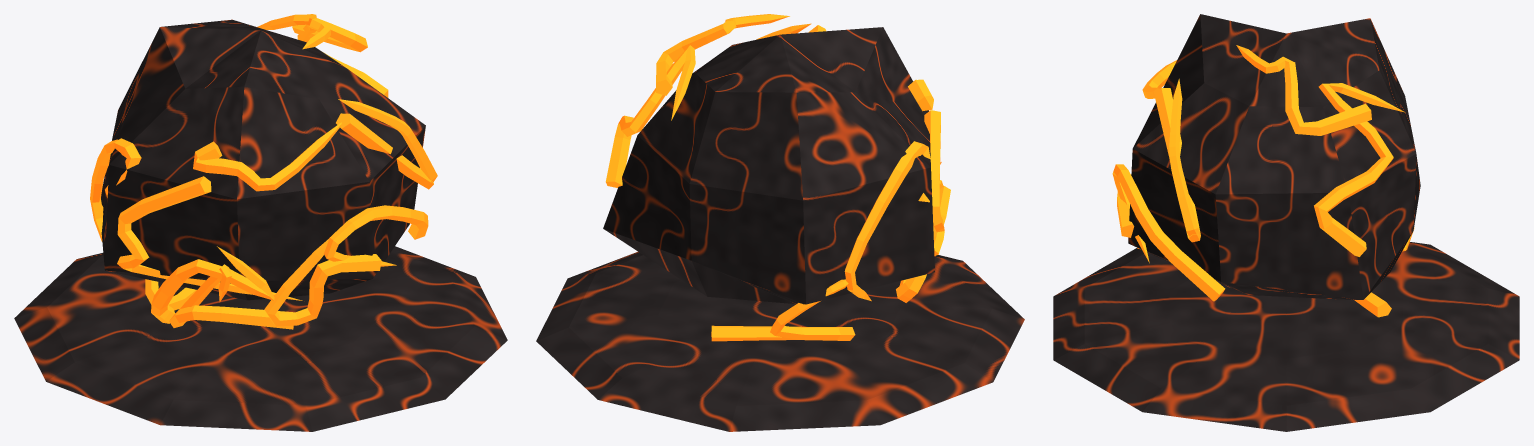
File: VolcanicBomb.glb
3 views of the same model, side by side, from view 1: azimuth 30°, elevation 25°; view 2: azimuth 150°, elevation 25°; view 3: azimuth 270°, elevation 25° (orthographic).
Parts seen in each view (by area): view 1: VolcanicBomb, VolcanicBomb_Glow; view 2: VolcanicBomb, VolcanicBomb_Glow; view 3: VolcanicBomb, VolcanicBomb_Glow.
Part boxes in pixels (x1,y1,x2,y2): VolcanicBomb: [14, 19, 507, 431]; VolcanicBomb_Glow: [90, 14, 437, 329]; VolcanicBomb: [536, 27, 1024, 431]; VolcanicBomb_Glow: [605, 14, 950, 341]; VolcanicBomb: [1053, 14, 1519, 431]; VolcanicBomb_Glow: [1112, 45, 1414, 317].
Size of the model in its own units: 3.6 by 2.6 by 3.42.
Materials: 2 (1 with a texture image).
